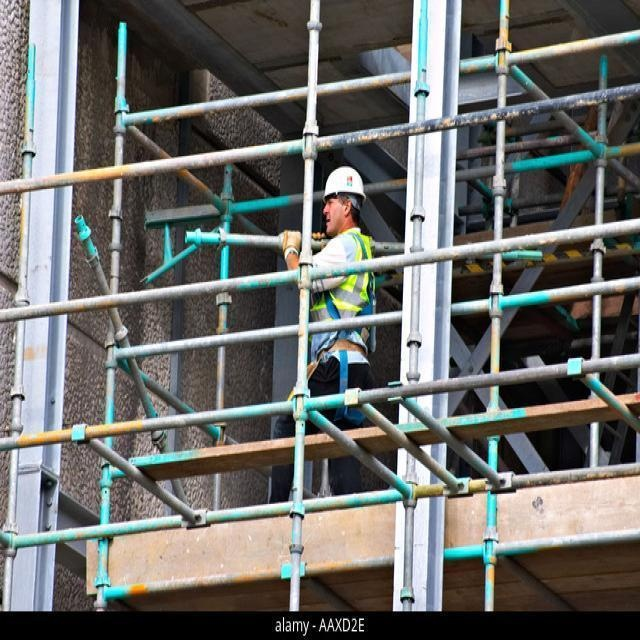Arnes_seguridad: (322, 229, 376, 358)
